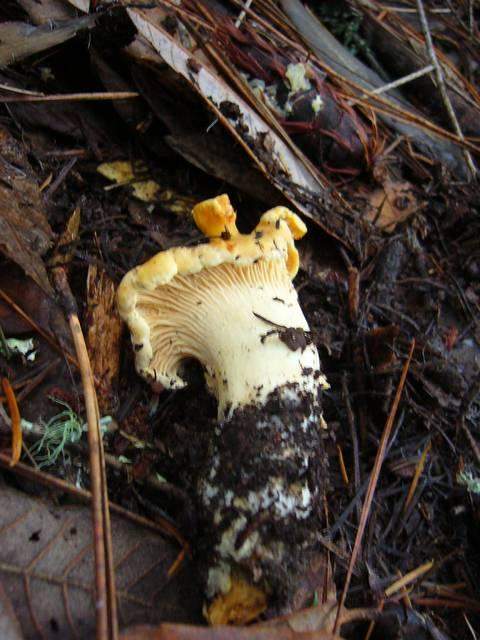edible_mushroom: (114, 192, 335, 626)
